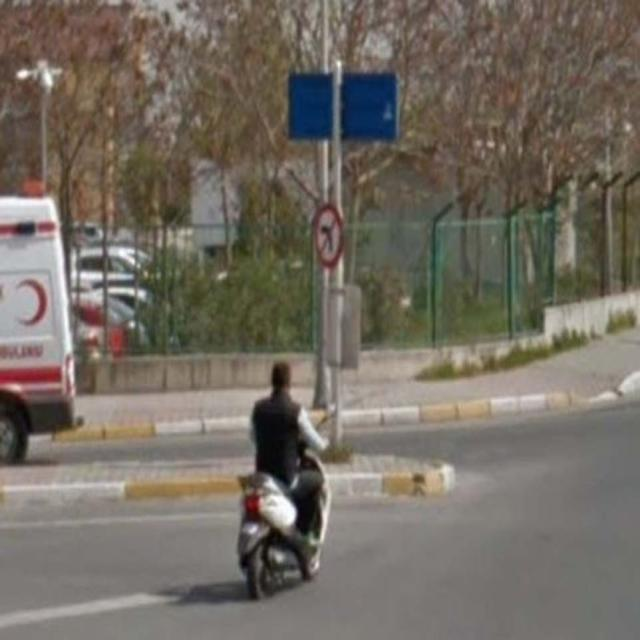soladonulmez: (313, 204, 345, 268)
